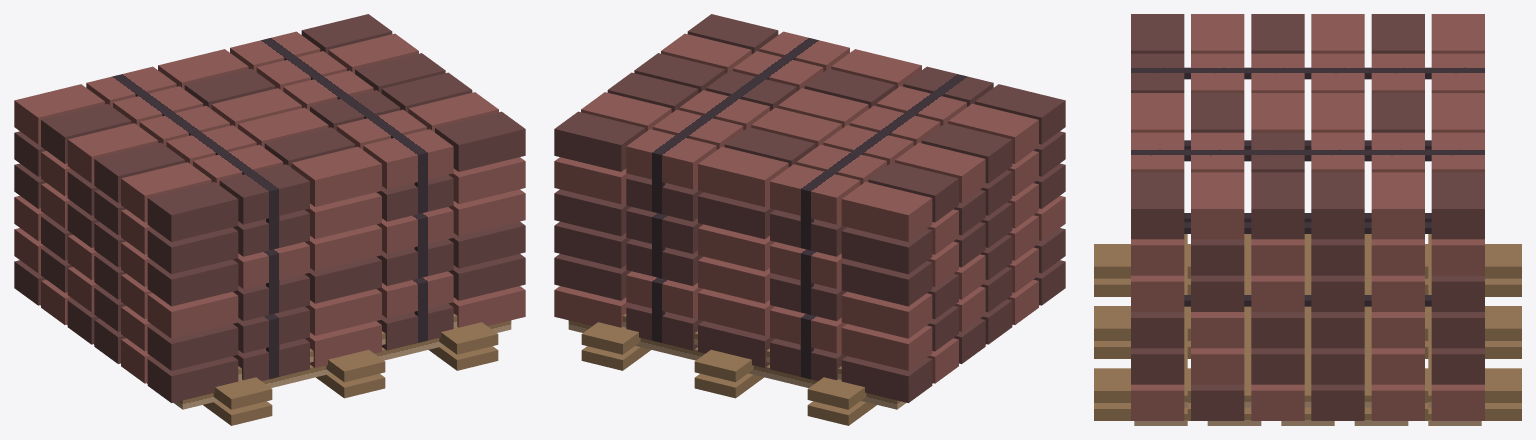
The model's file is vox_brick_pallet.glb.
3 renders of one model, left to right at view 1: azimuth 30°, elevation 25°; view 2: azimuth 150°, elevation 25°; view 3: azimuth 270°, elevation 25°, orthographic. The views are drawn at different scales.
Parts seen in each view (by area): view 1: Object_52, Object_49, Object_46, Object_43, Object_55; view 2: Object_52, Object_49, Object_46, Object_43, Object_55; view 3: Object_52, Object_49, Object_46, Object_55, Object_43.
Boxes of the visible parts, x1,y1,x2,y2 form: Object_52: (14,14,525,274); Object_49: (14,163,525,338); Object_46: (14,228,525,402); Object_43: (40,305,511,425); Object_55: (213,313,498,409); Object_52: (554,14,1065,274); Object_49: (554,163,1065,338); Object_46: (554,228,1065,402); Object_43: (568,305,1039,425); Object_55: (581,313,866,409); Object_52: (1131,14,1484,275); Object_49: (1131,140,1484,348); Object_46: (1131,213,1484,420); Object_55: (1094,234,1521,407); Object_43: (1094,278,1521,425).
Size of the model in its own units: 1.95 by 1.1 by 1.81.
Materials: 5 (5 with a texture image).
